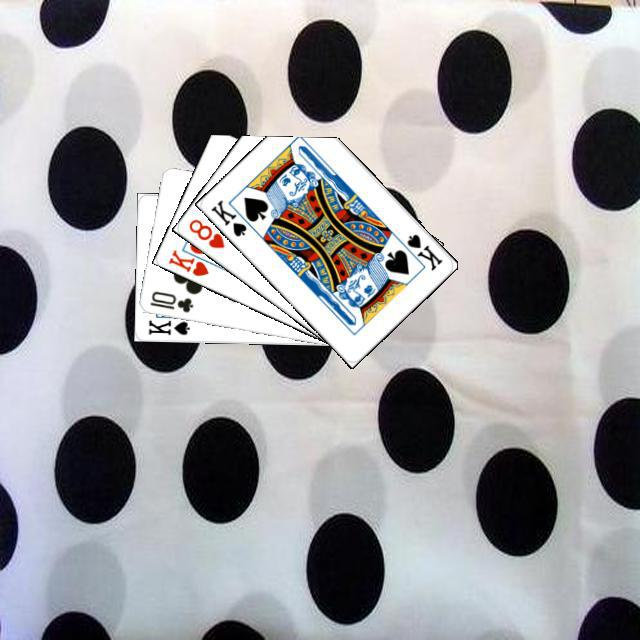10c: (145, 286, 195, 314)
8h: (184, 214, 226, 250)
Kh: (163, 242, 218, 278)
Ks: (394, 229, 444, 273), (206, 195, 248, 238), (143, 315, 191, 337)
